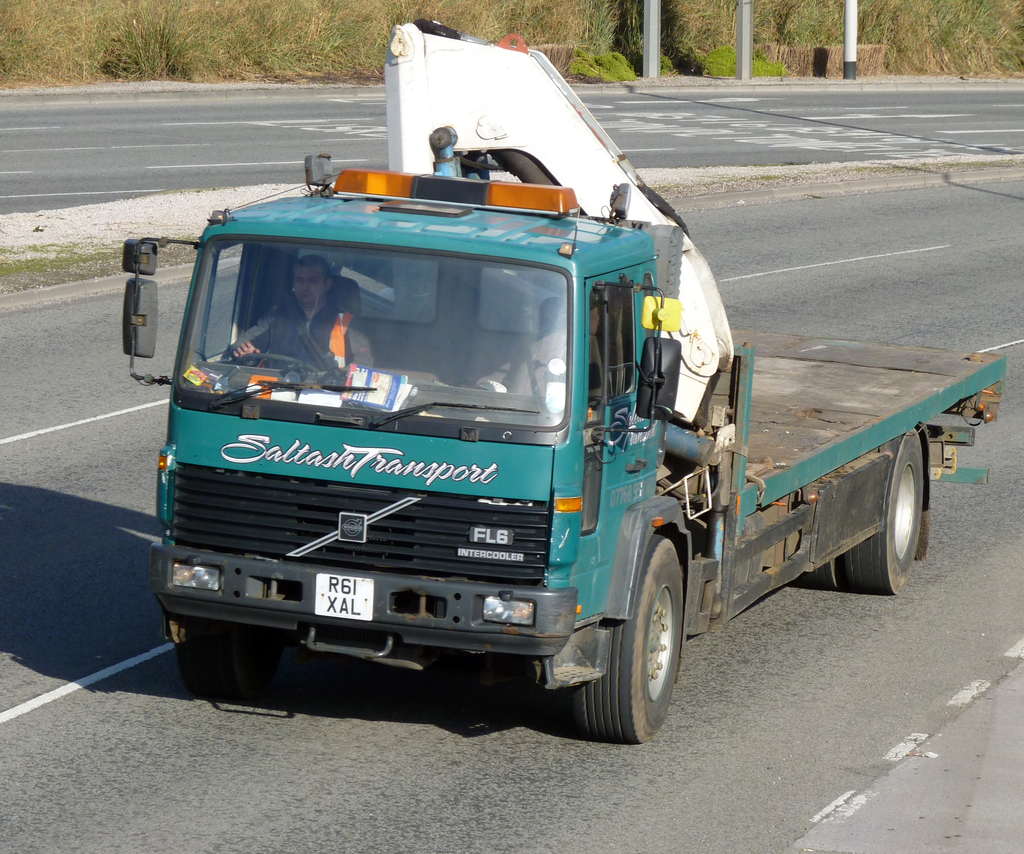truck: (89, 55, 1015, 761)
